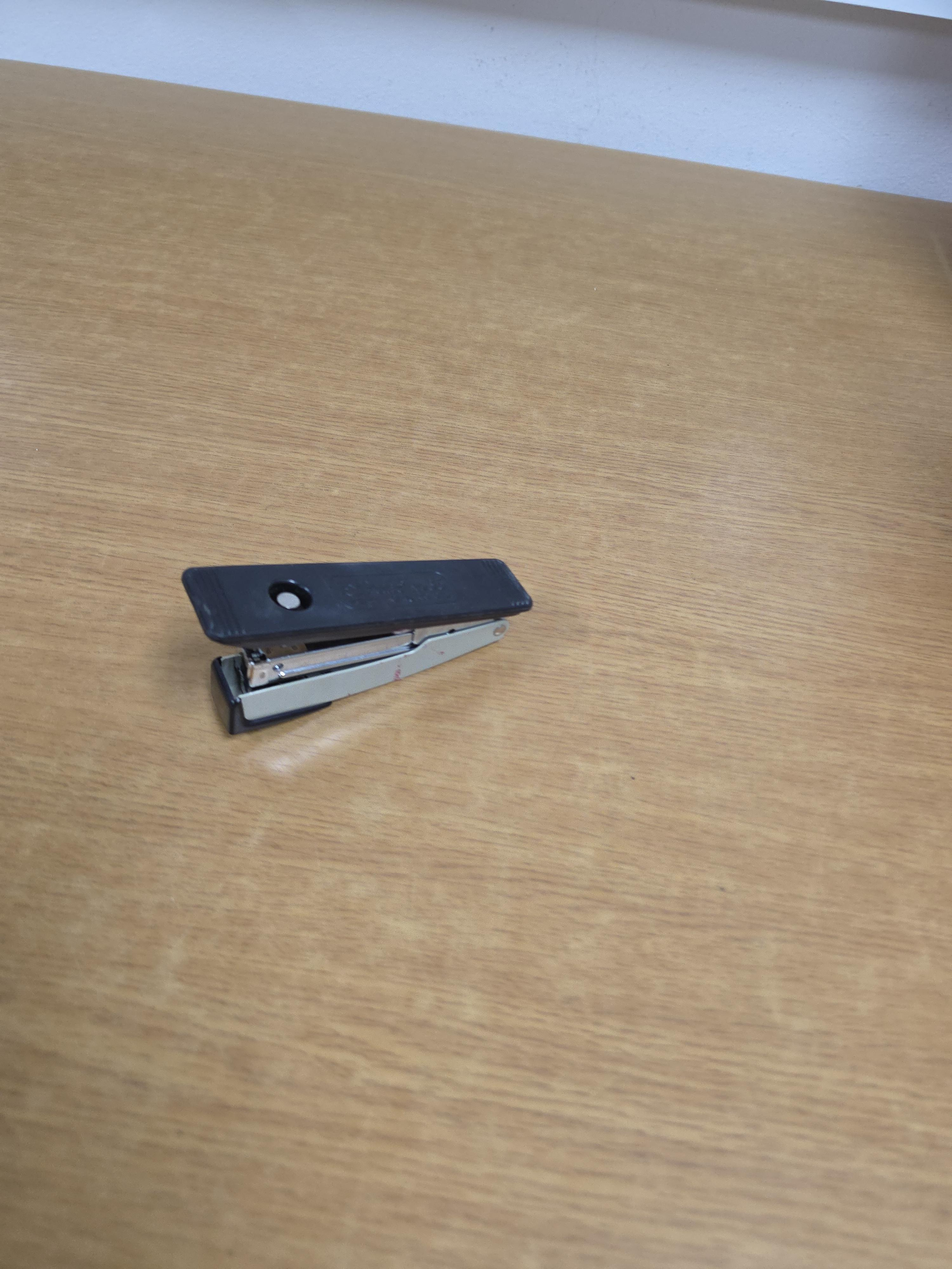stapler: (181, 558, 533, 736)
